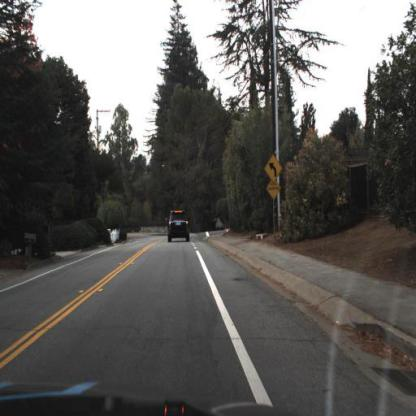car: (169, 207, 192, 241)
